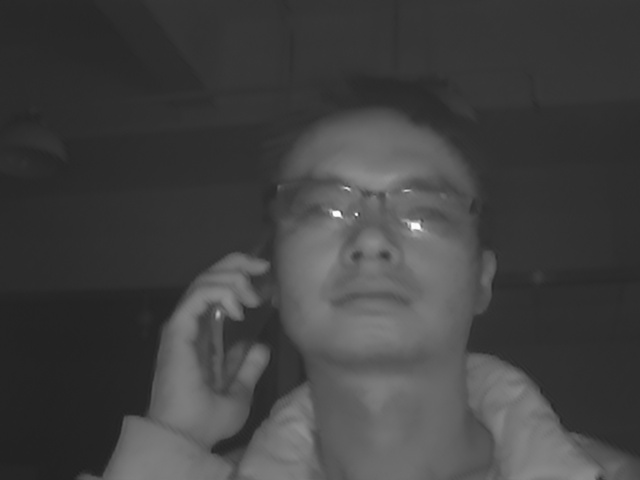hand: (144, 250, 274, 444)
